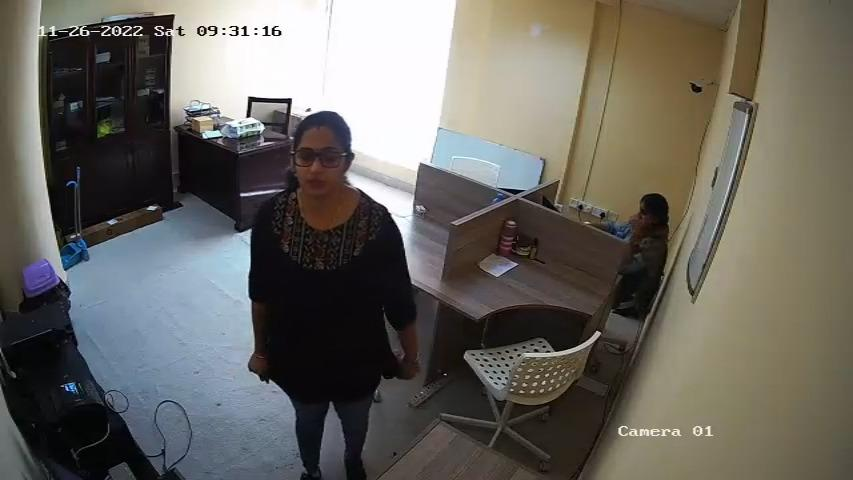no_apron: (276, 195, 372, 390)
